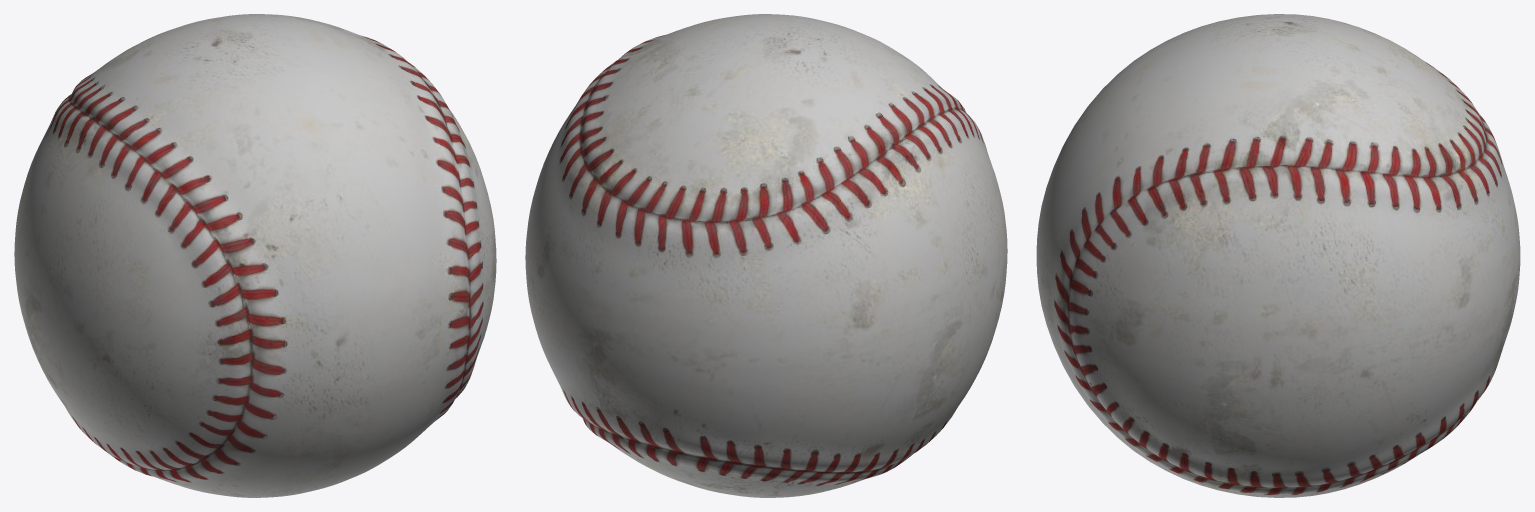
The model's file is Baseball_astral3d.optimize.glb.
3 views of the same model, side by side, from view 1: azimuth 30°, elevation 25°; view 2: azimuth 150°, elevation 25°; view 3: azimuth 270°, elevation 25° (orthographic).
Visible parts, largest first — view 1: baseball_01; view 2: baseball_01; view 3: baseball_01.
Boxes of the visible parts, left/top/right/bottom form: baseball_01: left=14, top=14, right=496, bottom=497; baseball_01: left=525, top=14, right=1007, bottom=497; baseball_01: left=1036, top=14, right=1520, bottom=497.
Size of the model in its own units: 0.0735 by 0.0753 by 0.0752.
1 material, 1 textured.
